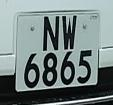5: (75, 47, 93, 87)
6: (22, 51, 42, 91), (58, 51, 77, 87)
8: (40, 53, 60, 89)
N: (40, 12, 62, 55)
W: (61, 12, 79, 54)
